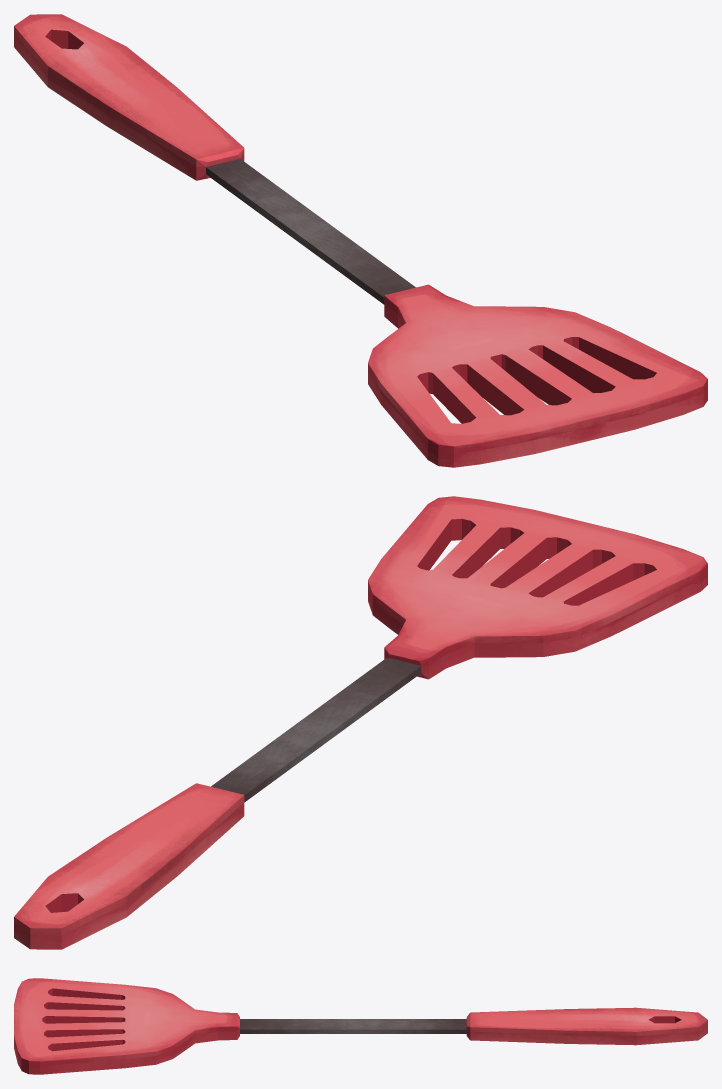
File: spatula.fbx
3 renders of one model, top to bottom at view 1: azimuth 30°, elevation 25°; view 2: azimuth 150°, elevation 25°; view 3: azimuth 270°, elevation 25°, orthographic. The views are drawn at different scales.
Parts seen in each view (by area): view 1: Spatula; view 2: Spatula; view 3: Spatula.
Part boxes in pixels (<box>): Spatula: <box>14,14,707,467</box>; Spatula: <box>14,496,707,949</box>; Spatula: <box>14,978,707,1074</box>.
Bounding box in the file's own units: 71.08 × 5.3 × 250.
